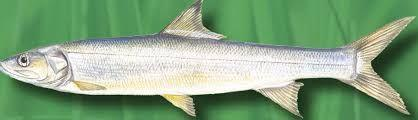Tenpounder: (1, 0, 418, 119)
